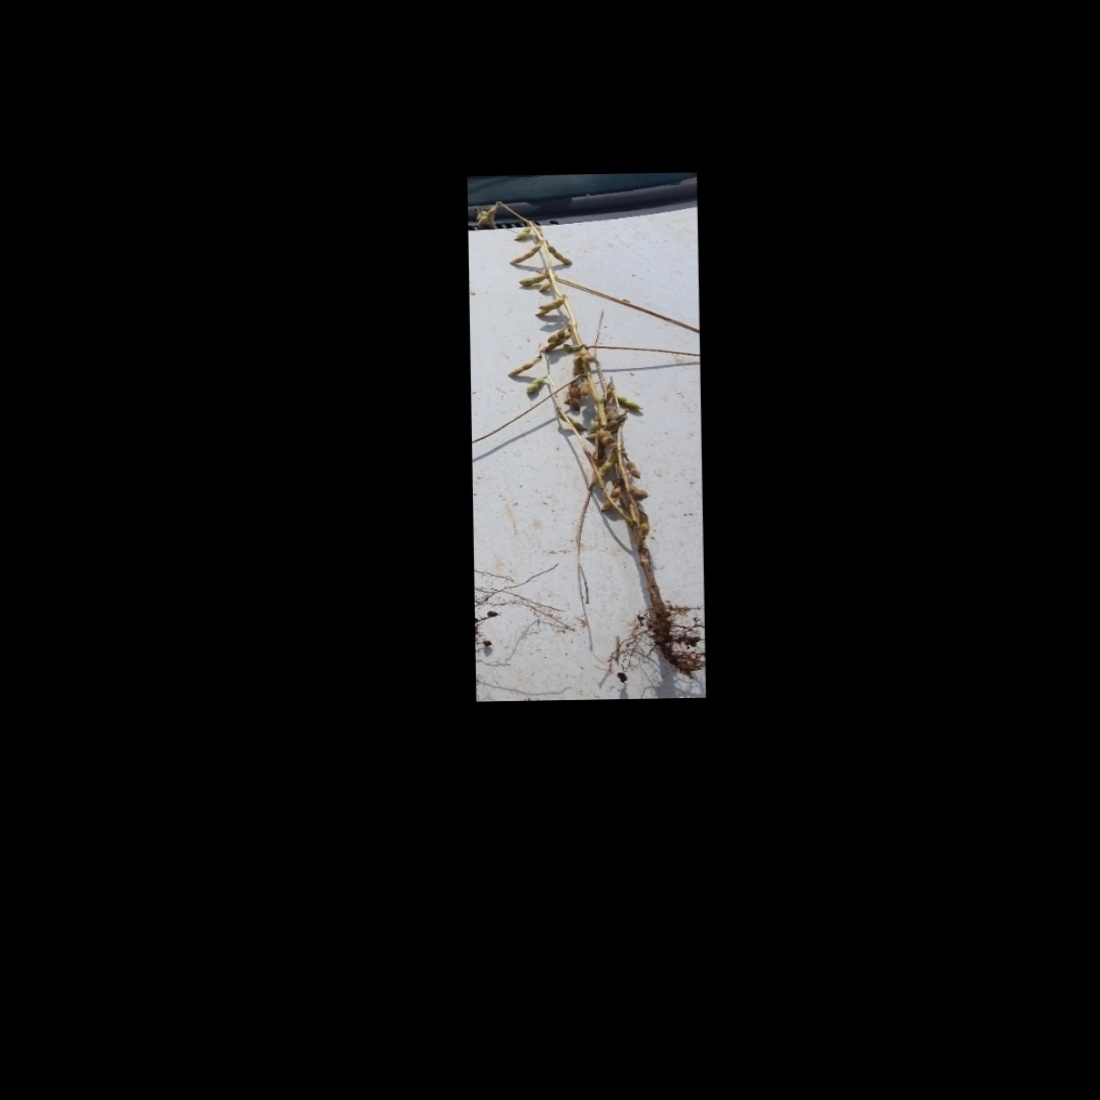pod: (509, 243, 542, 266), (506, 356, 539, 378), (613, 393, 645, 411), (550, 242, 573, 266), (625, 459, 646, 482), (524, 377, 543, 395), (517, 273, 545, 285), (512, 225, 531, 241), (536, 280, 551, 295)
soy: (469, 191, 689, 691)
